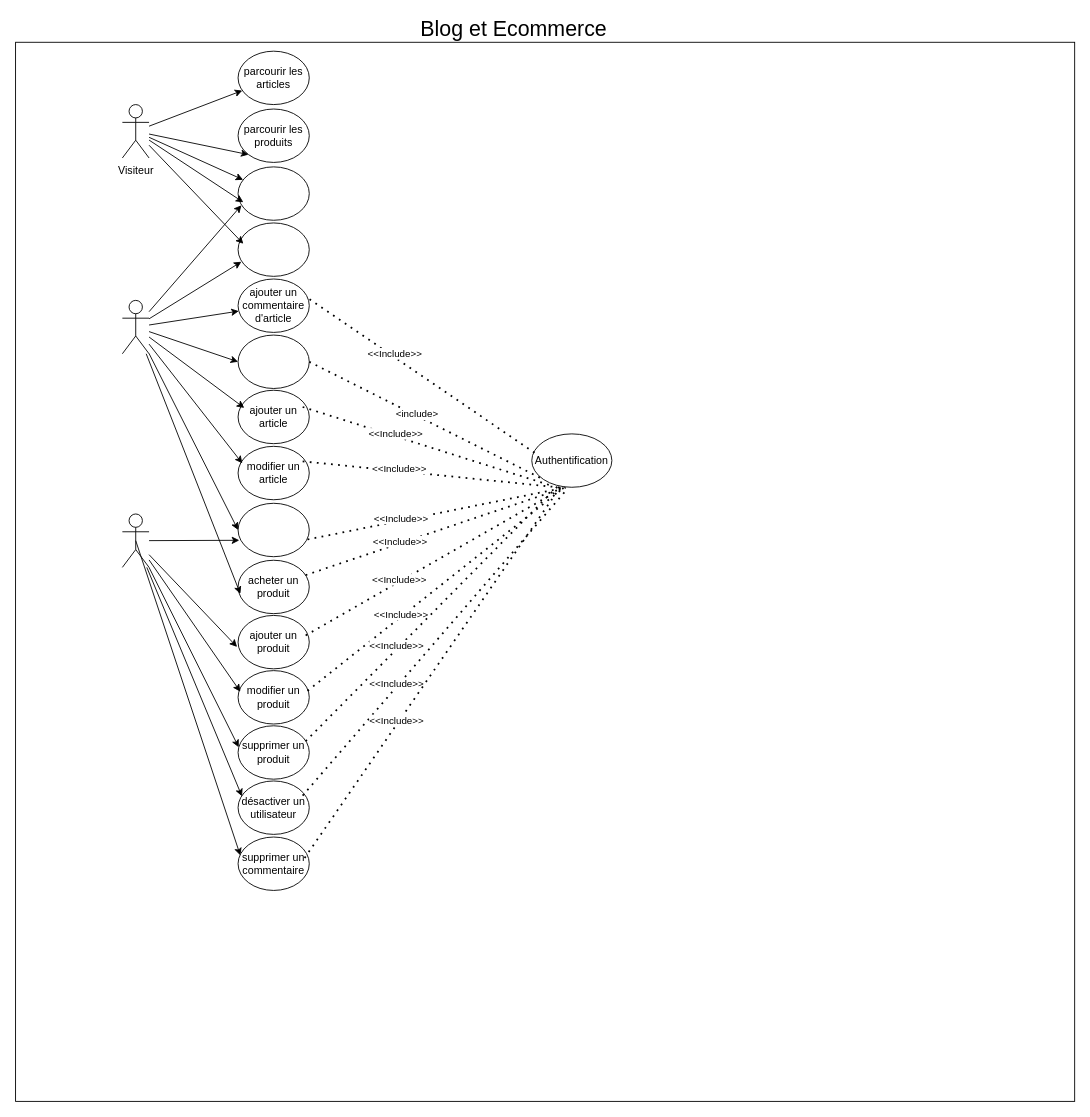
Some shapes in this 1090 by 1117 pixel diagram are drawn without their labels. Here are the shapes that lost their labels. From the top down, the centre of each, then its label:
At (x=273, y=193): "chercher un article".
At (x=273, y=249): "chercher un produit".
At (x=135, y=326): "Utilisateur".
At (x=273, y=361): "ajouter un commentaire de produit".
At (x=135, y=540): "Admin".
At (x=273, y=529): "supprimer un article".
